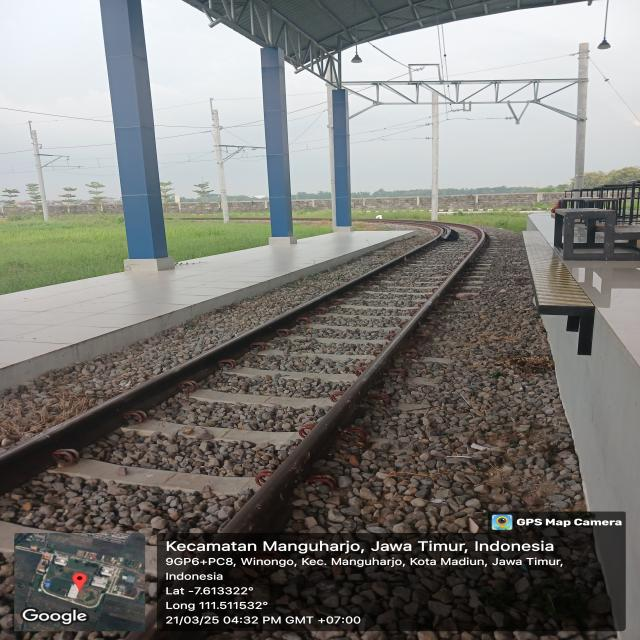rail-detection: (0, 235, 441, 494), (221, 226, 485, 533)
